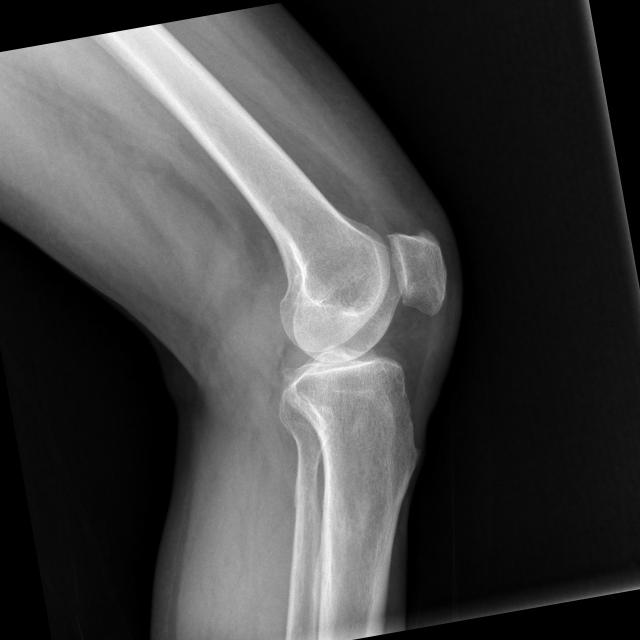Knee: (254, 220, 468, 428)
